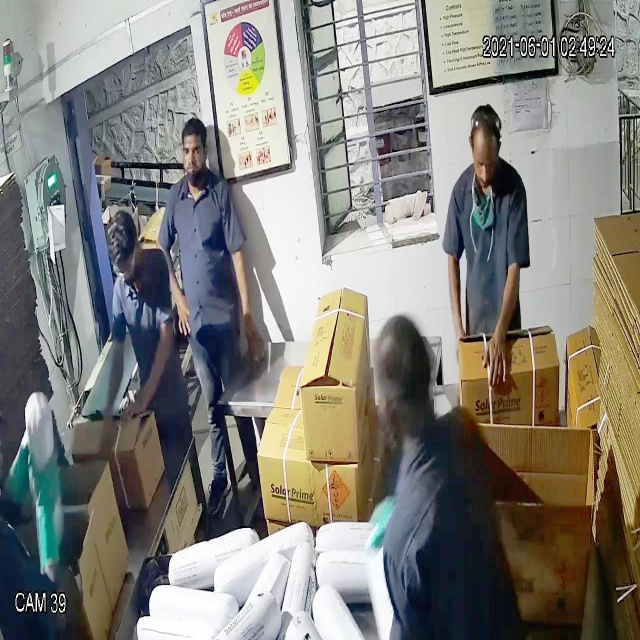Sin_gafas: (463, 143, 504, 181), (178, 135, 209, 166)
